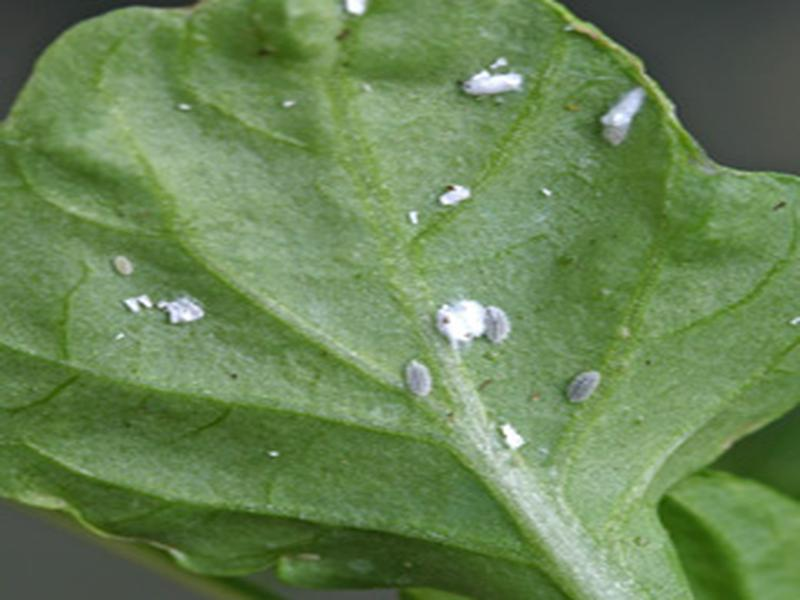Mealy_bug: (377, 274, 614, 427), (461, 54, 670, 151)
